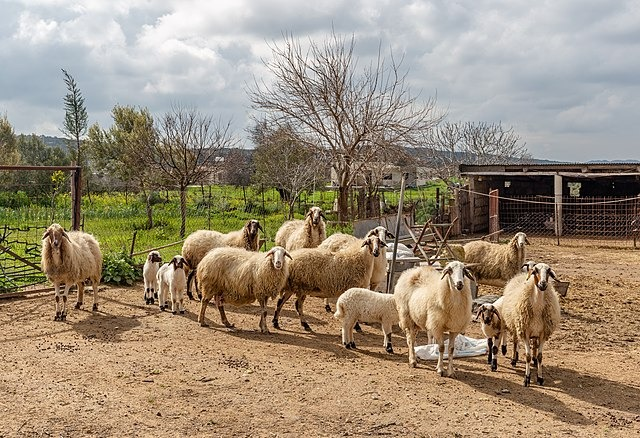standing: (280, 233, 378, 328), (393, 261, 473, 376), (195, 244, 290, 333), (504, 263, 562, 382), (39, 223, 102, 319), (479, 296, 510, 377), (161, 253, 187, 317), (141, 248, 164, 305)
